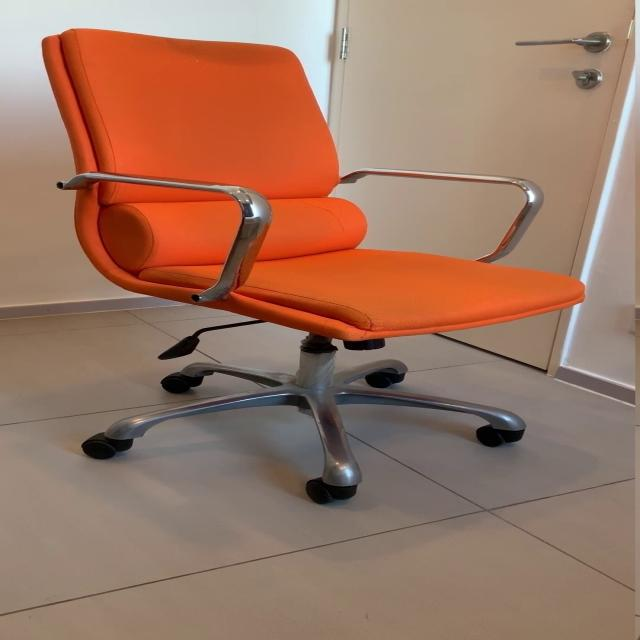Chair: (39, 27, 598, 508)
